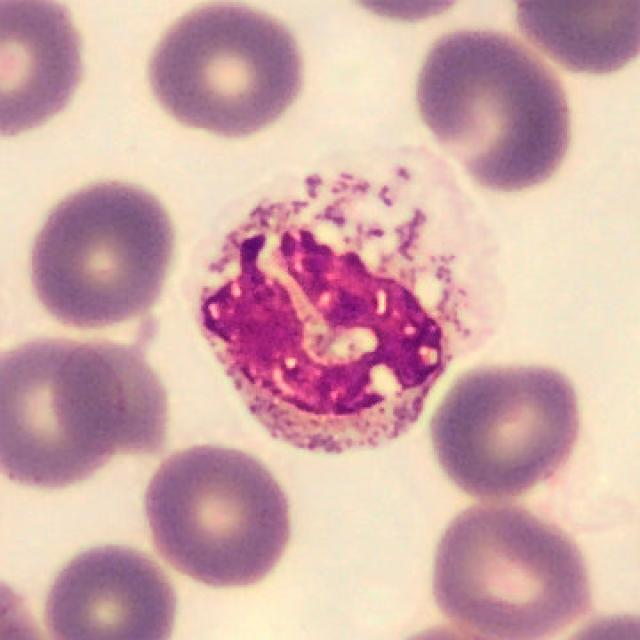Neutrofilo segmentado: (187, 146, 508, 455)
